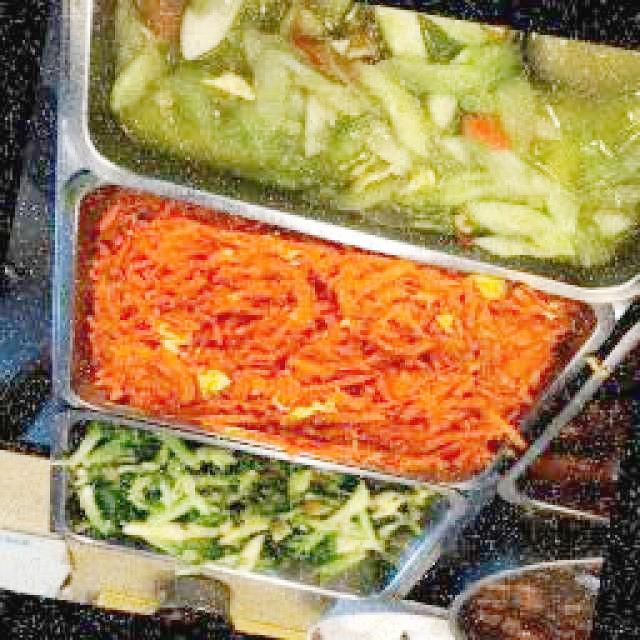carrot_eggs: (110, 252, 330, 414), (324, 272, 532, 440)
